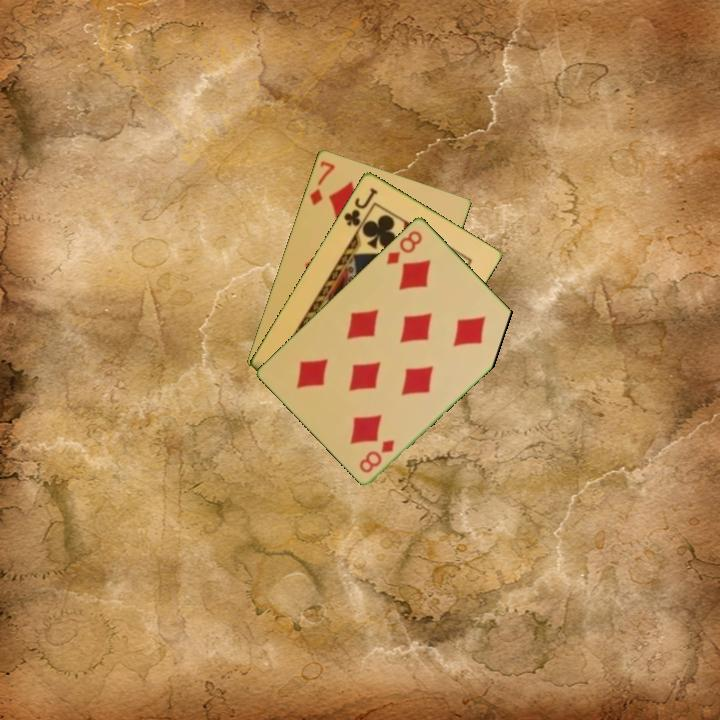7d: (306, 157, 337, 208)
8d: (383, 226, 425, 267), (356, 436, 397, 476)
Jc: (340, 184, 381, 229)
